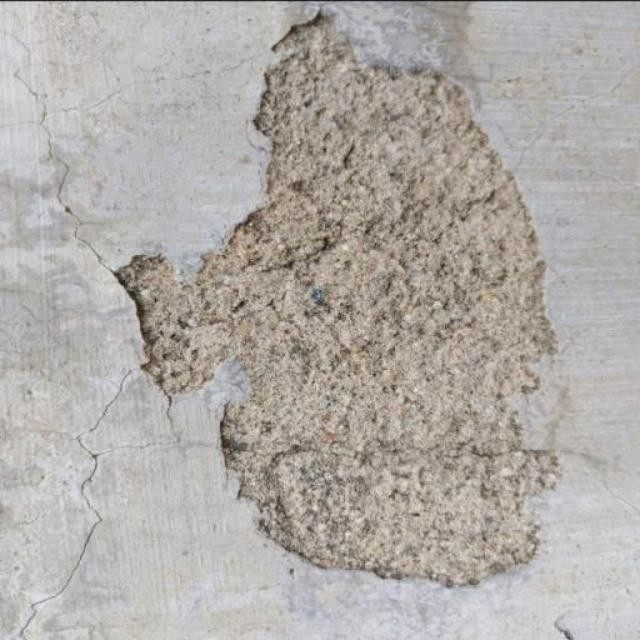D10: (118, 10, 562, 588)
